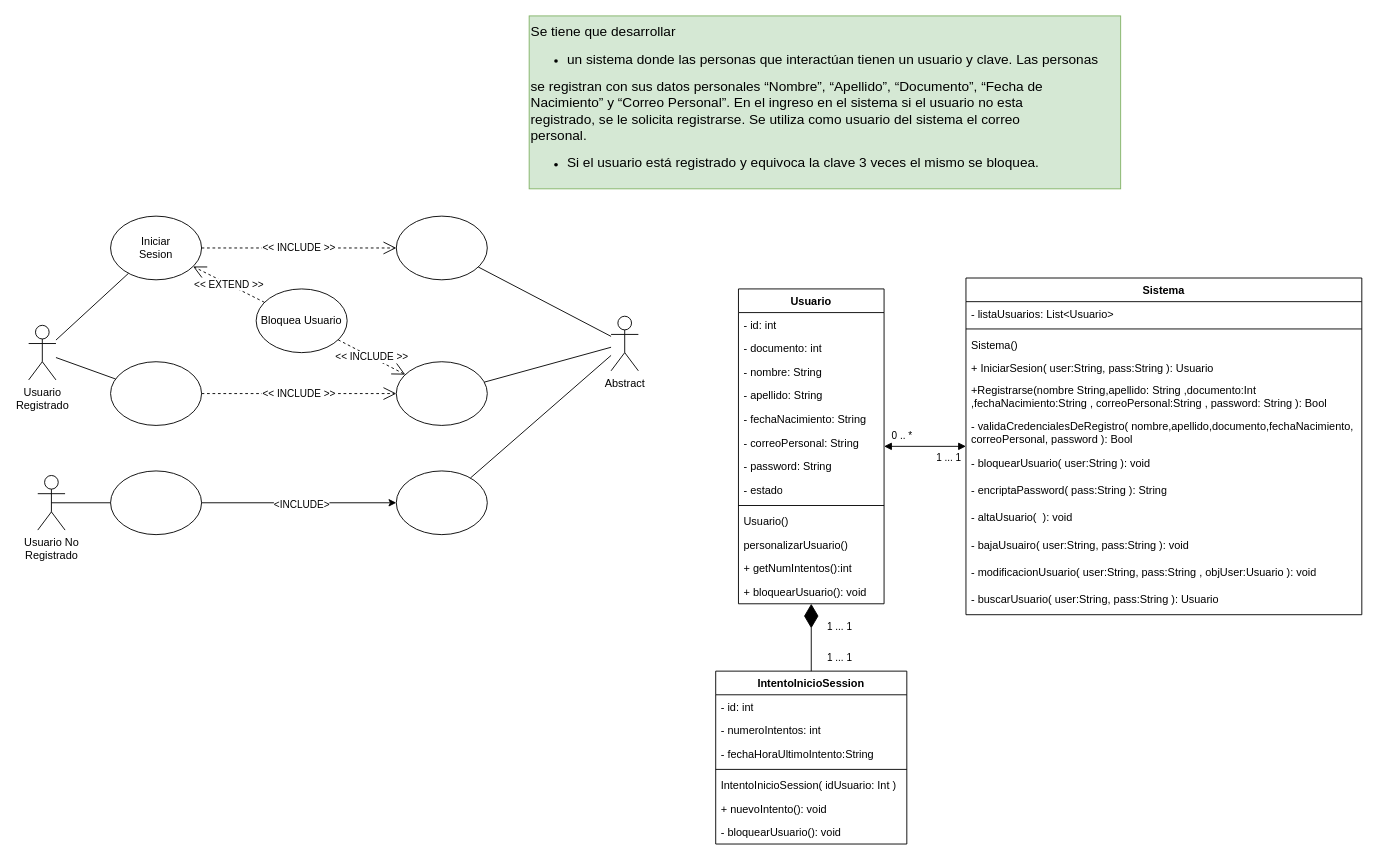
Image size: 1378x863. Some labels were removed from this diagram. The shapes that lost their labels are listed below. From the top down, each one's centre as x and y in pixels, then its label:
[441,247]: Busca Usuario
[156,393]: Personaliza Usuario
[441,393]: Modifica Usuario
[156,502]: Registrarse
[441,502]: Alta Usuario
